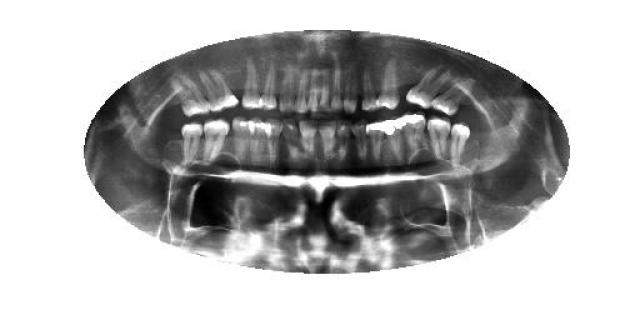Fillings: (401, 112, 429, 154), (382, 116, 403, 165), (365, 120, 384, 164)
